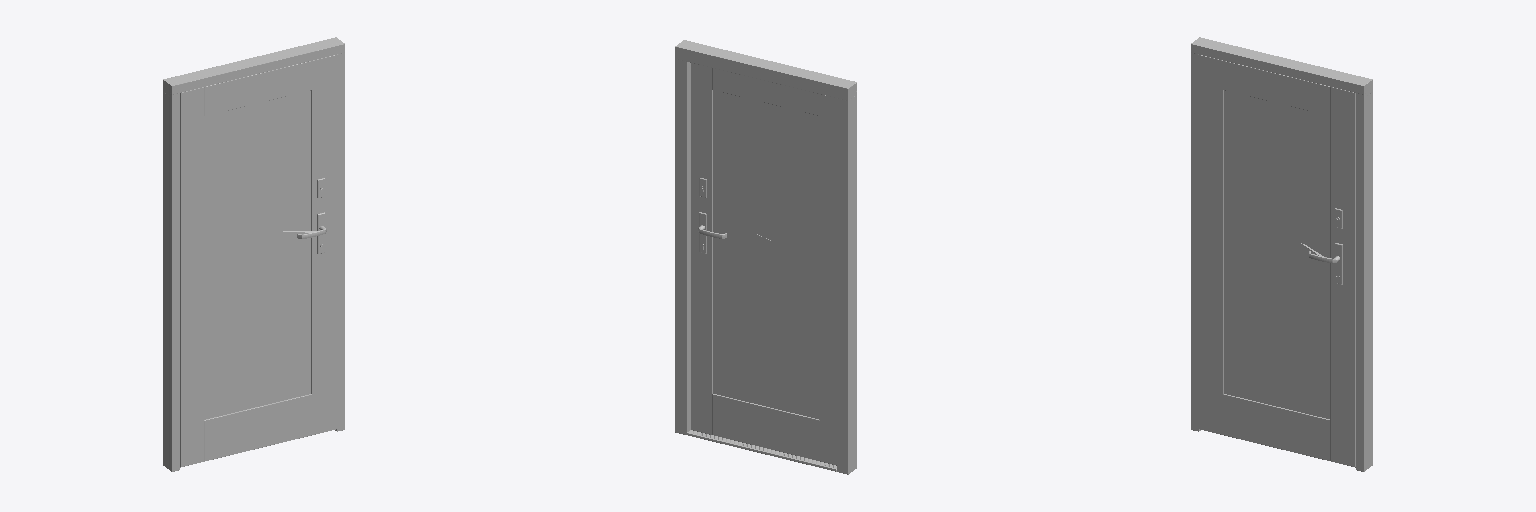
Rendered from door2.obj.
3 renders of one model, left to right at view 1: azimuth 30°, elevation 25°; view 2: azimuth 150°, elevation 25°; view 3: azimuth 330°, elevation 25°, orthographic.
Visible parts, largest first — view 1: AM109_060_02, AM109_060_00; view 2: AM109_060_02, AM109_060_00; view 3: AM109_060_02, AM109_060_00.
Part boxes in pixels (left/top/right/bottom): AM109_060_02: left=180, top=55, right=336, bottom=466; AM109_060_00: left=163, top=37, right=344, bottom=471; AM109_060_02: left=691, top=63, right=836, bottom=465; AM109_060_00: left=675, top=40, right=856, bottom=474; AM109_060_02: left=1199, top=55, right=1355, bottom=466; AM109_060_00: left=1191, top=37, right=1372, bottom=471.
Size of the model in its own units: 1.99 by 4.23 by 0.3579.